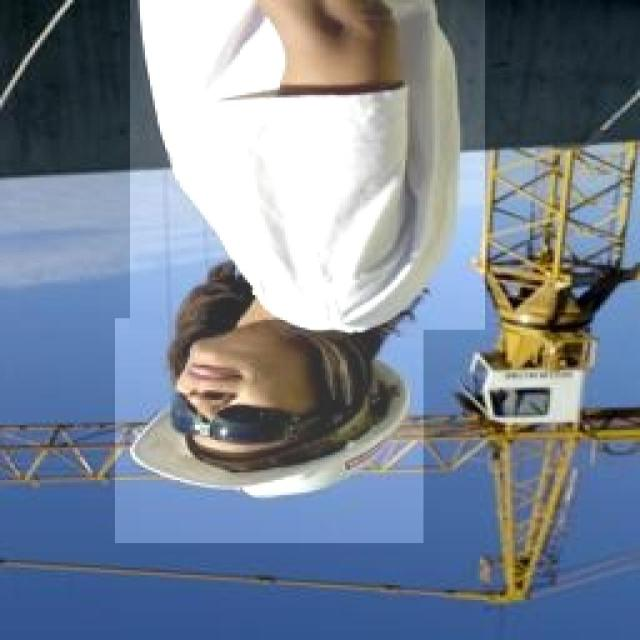Helmet: (130, 0, 485, 330), (115, 318, 423, 543)
